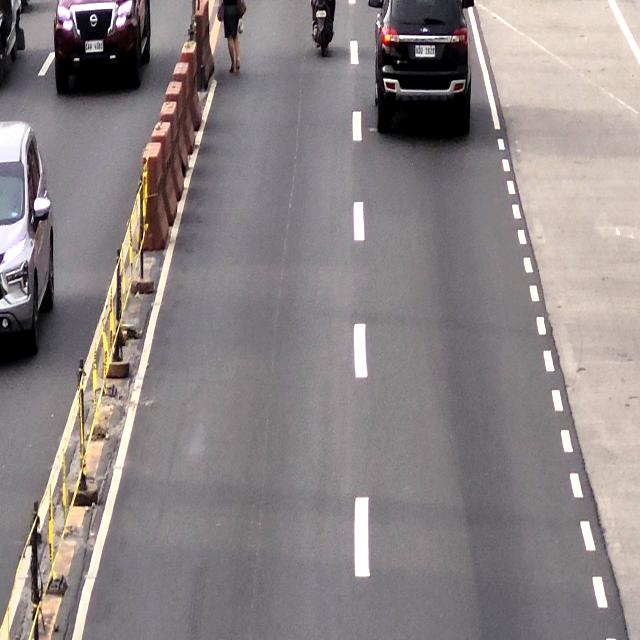Car: (375, 0, 472, 125)
License-Plate: (414, 42, 438, 61)
